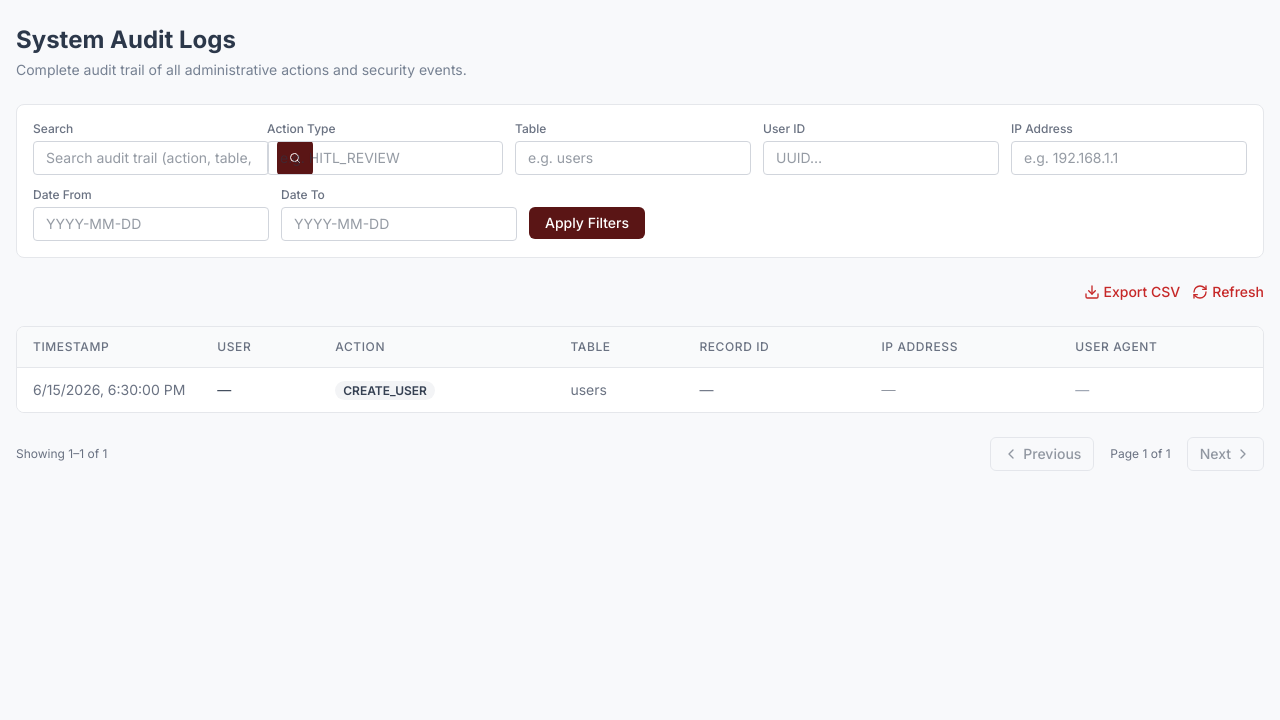
Test: Admin Audit page › Keycloak auth username render transform › keeps username key when table_affected is not wims.auth
Expected: the text "CREATE_USER" is shown, [335, 381, 435, 400]
Click the text "CREATE_USER".
click(109, 390)  # box [17, 368, 1263, 412]
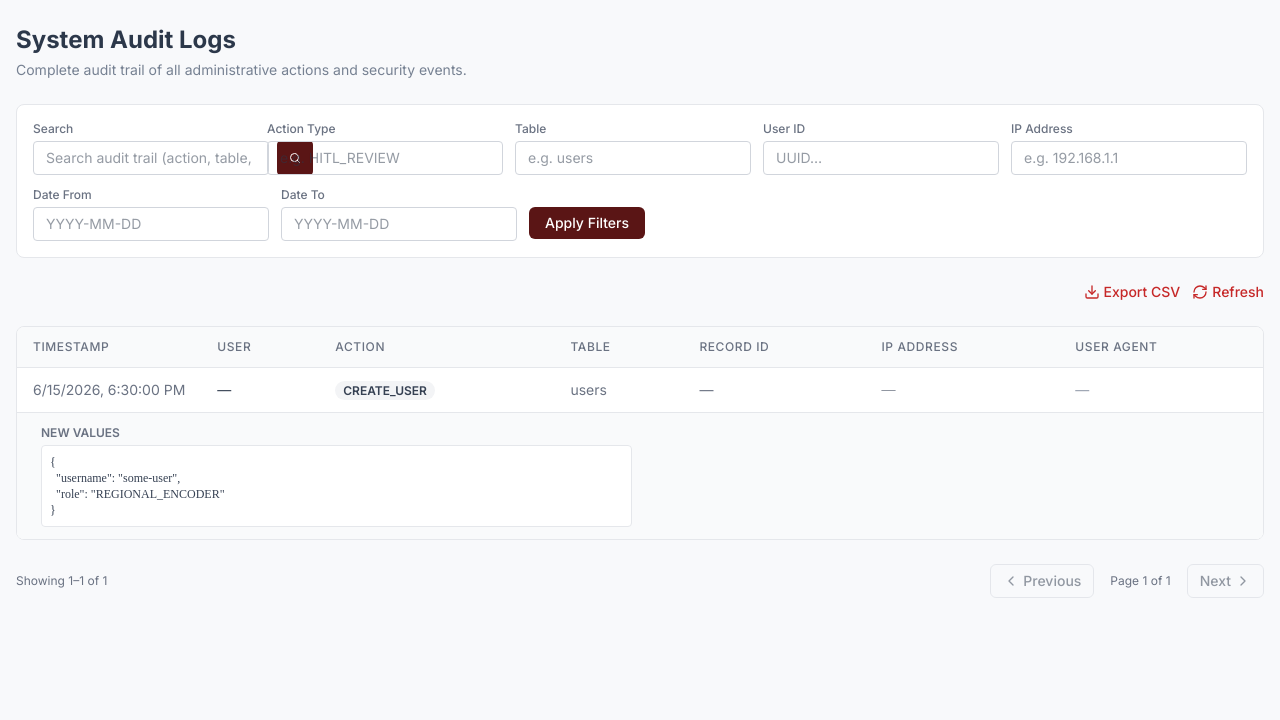
Result: the heading "New Values" is shown at [41, 425, 120, 440]
